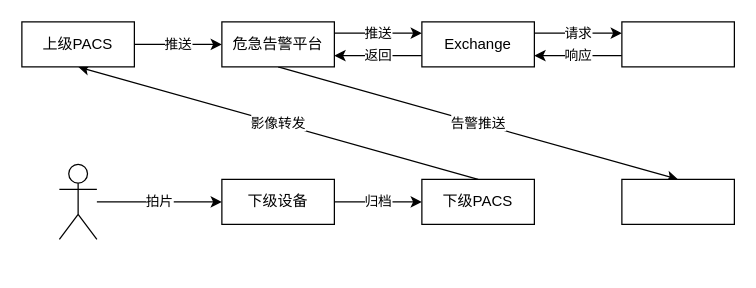
The diagram is 756 pixels wide and 288 high, and some of its shapes have lost their labels. The box of each missing label's shape, as (x1, y1, x2, y2) in pixels:
AI应用: (621, 21, 734, 67)
告警展示: (621, 178, 734, 224)
病人: (58, 163, 97, 239)
